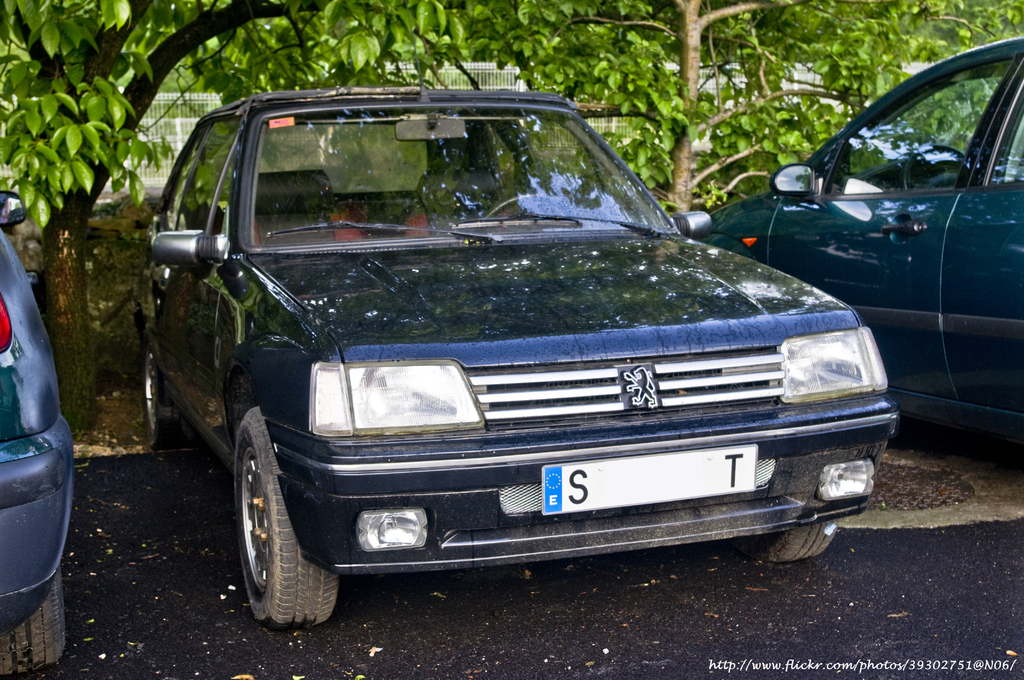Tree: (0, 0, 1024, 432)
